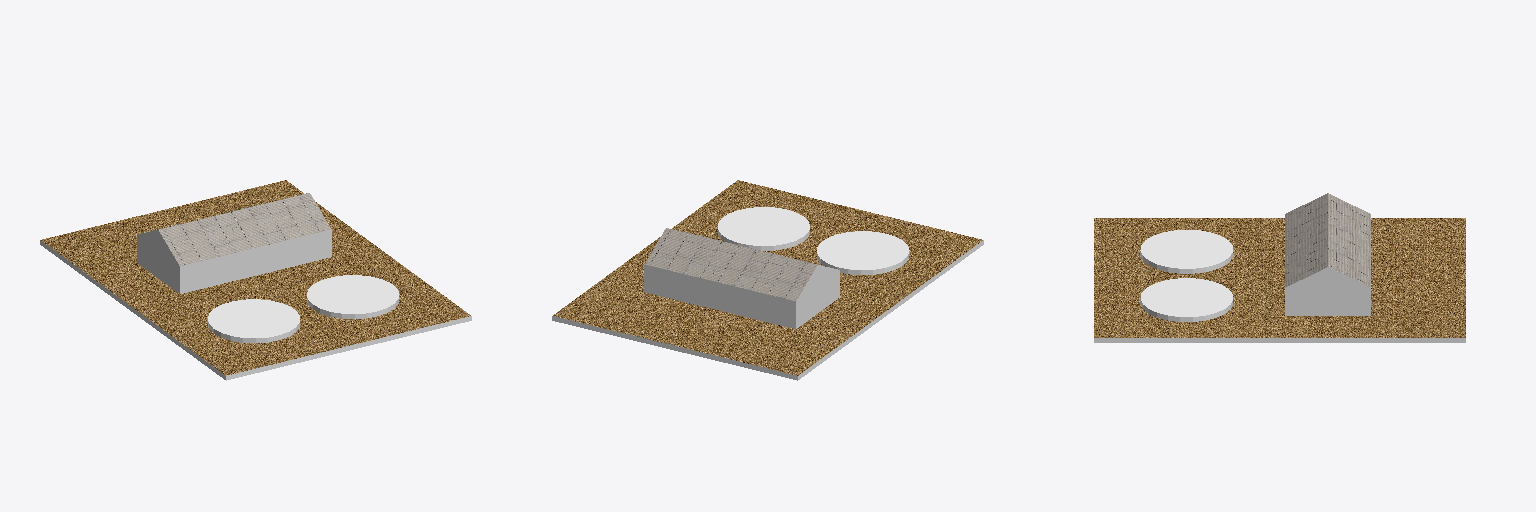
3 renders of one model, left to right at view 1: azimuth 30°, elevation 25°; view 2: azimuth 150°, elevation 25°; view 3: azimuth 270°, elevation 25°, orthographic.
Bounding box in the file's own units: 0.6459 × 0.1345 × 0.8452.
Materials: 4 (2 with a texture image).